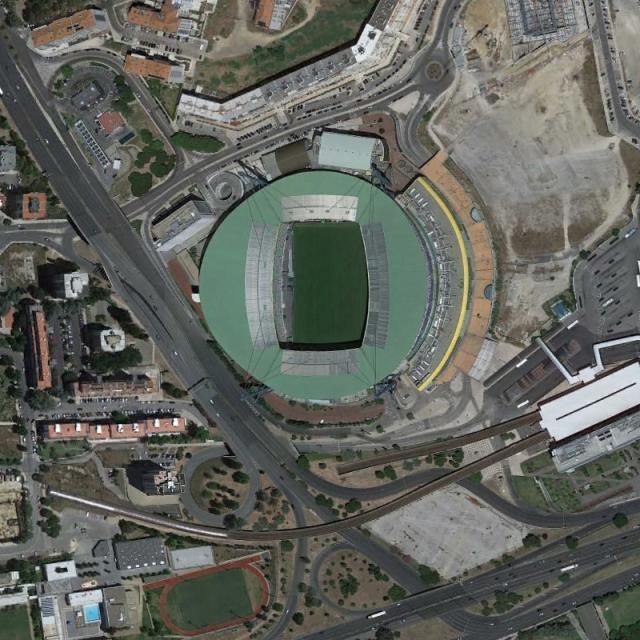vehicle: (367, 610, 386, 619), (561, 564, 578, 572)
